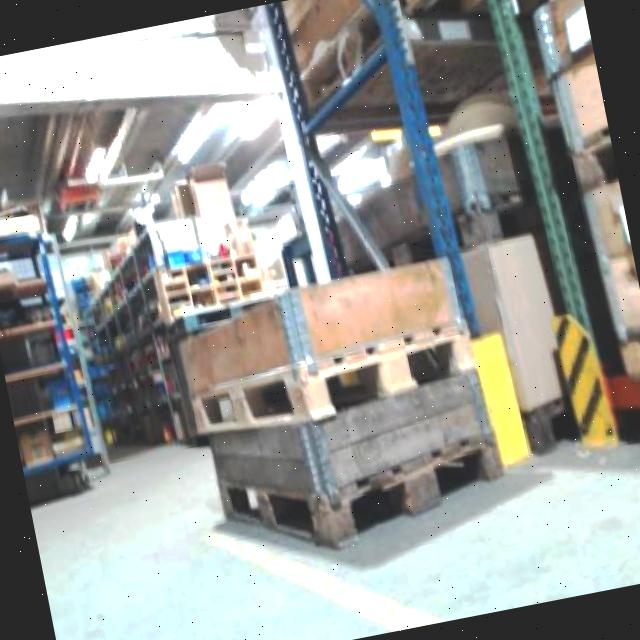ground: (23, 341, 640, 640)
pallet: (167, 248, 516, 573), (529, 0, 640, 449), (66, 216, 196, 456), (0, 237, 107, 514), (456, 227, 582, 461), (548, 304, 623, 455), (160, 246, 267, 318)
